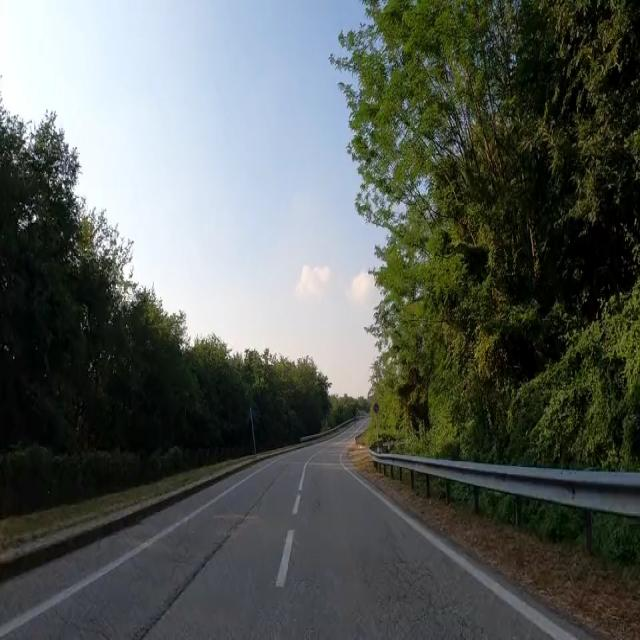lane: (0, 463, 270, 638), (340, 454, 576, 639), (276, 530, 293, 585)
road: (0, 425, 567, 638)
